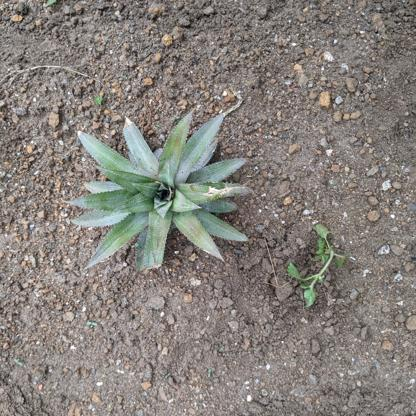pineapple: (70, 108, 251, 275)
weed: (286, 222, 352, 307)
